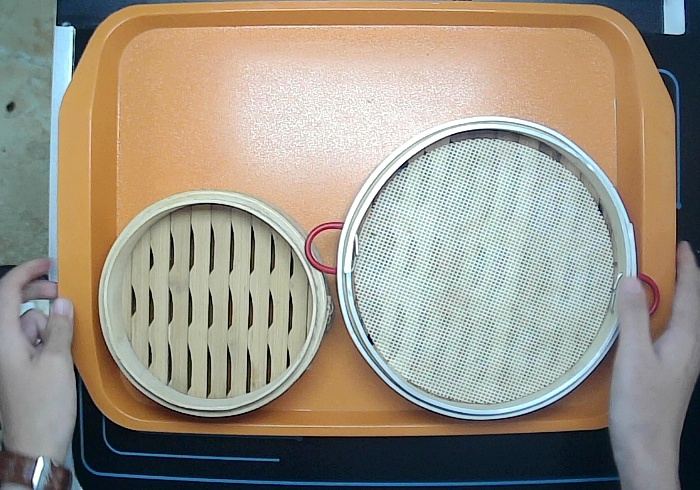ZNLD-Da_Zheng_Long: (302, 114, 660, 421)
ZNLD-Xiao_Zheng_Long: (97, 187, 330, 419)
